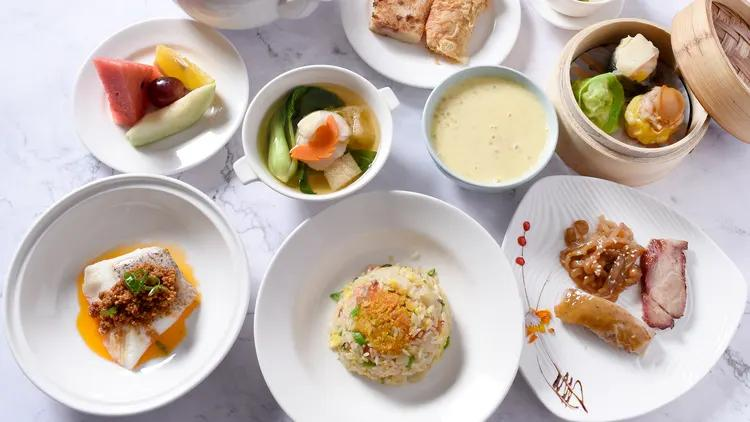Braised Crucian Carp: (501, 174, 743, 419), (253, 190, 507, 421), (2, 175, 245, 415), (71, 17, 246, 176), (550, 17, 709, 187), (236, 63, 396, 202), (421, 62, 554, 193)
